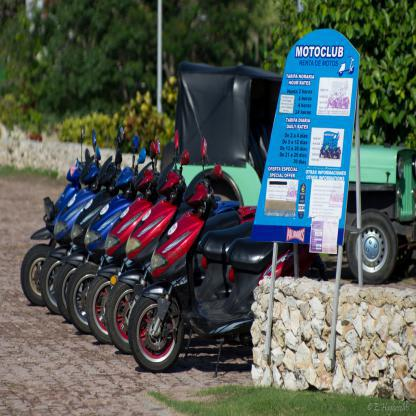motorcycle: (129, 138, 313, 379)
